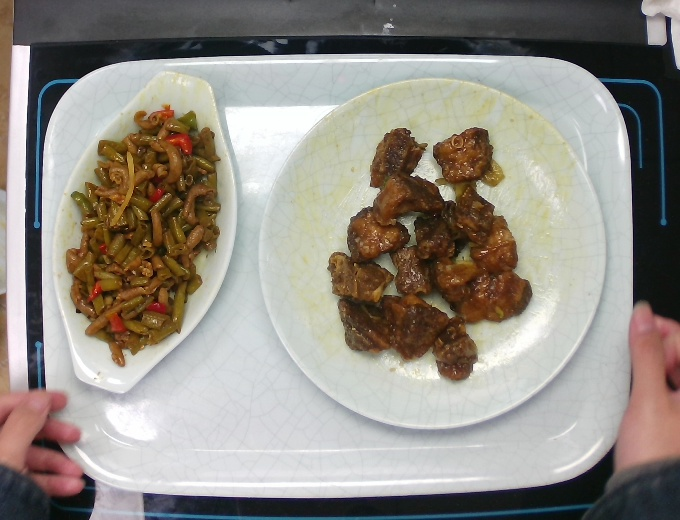JYsf-Da_Yuan_Pan: (253, 75, 609, 434)
JYsf-Yu_Pan: (49, 65, 241, 402)
